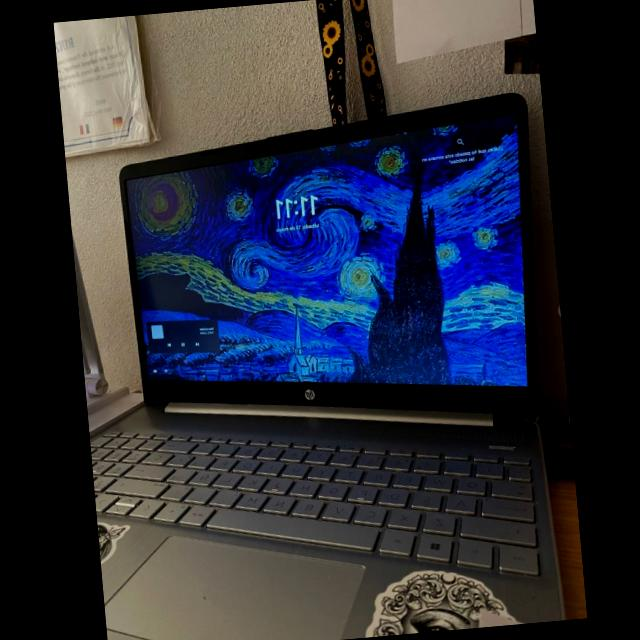laptop: (90, 94, 565, 640)
